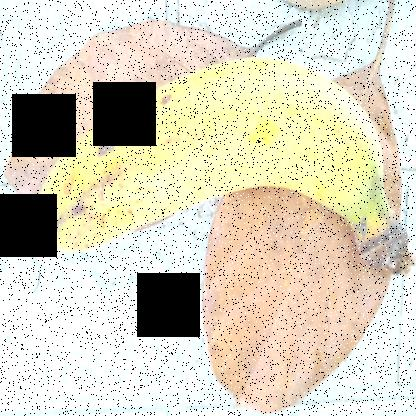ripe: (17, 45, 396, 274)
